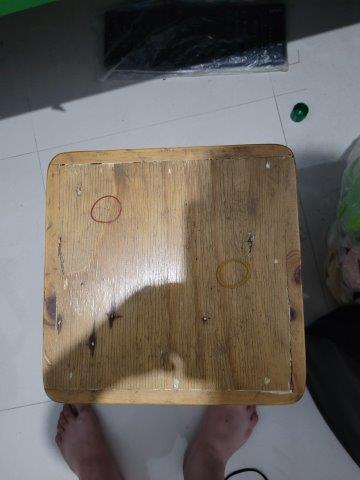karet: (214, 259, 252, 289), (90, 195, 122, 225)
